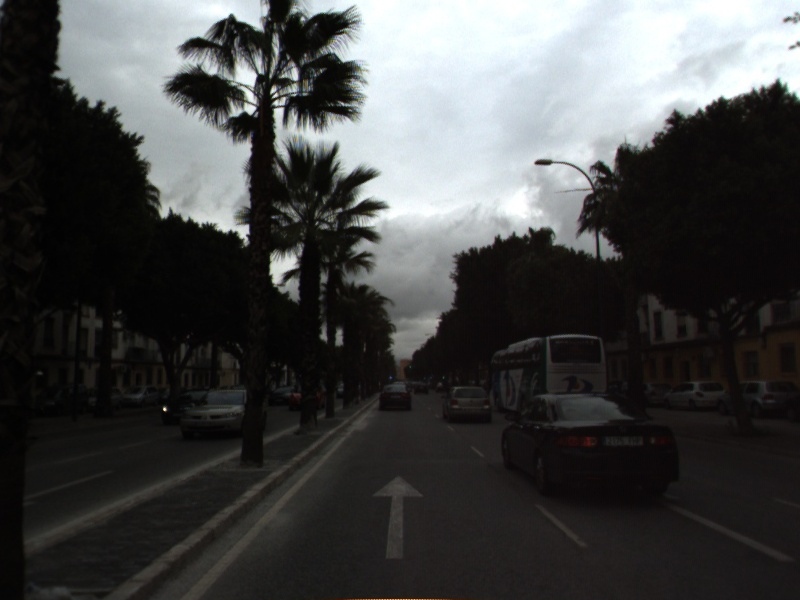STRAIGHT: (370, 473, 426, 561)
